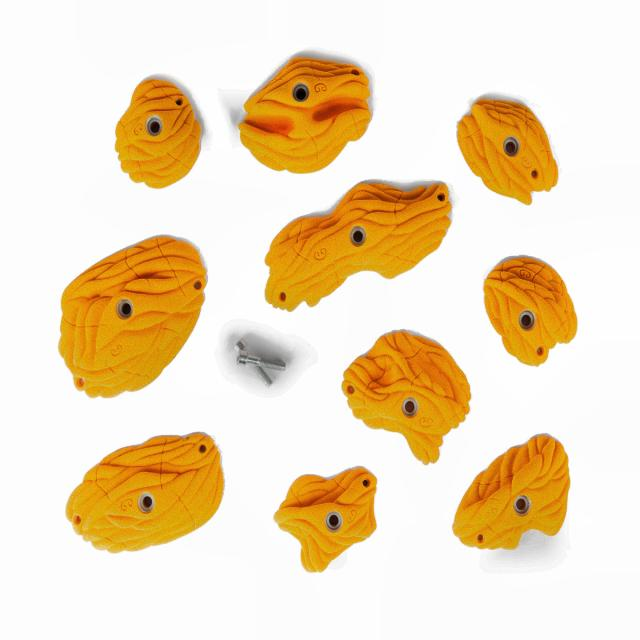Hold: (265, 179, 452, 318), (54, 235, 206, 402), (68, 432, 222, 557), (341, 324, 472, 463), (239, 57, 370, 170), (451, 434, 572, 554), (276, 468, 382, 576), (484, 252, 578, 368), (461, 94, 560, 200), (110, 74, 203, 184)
